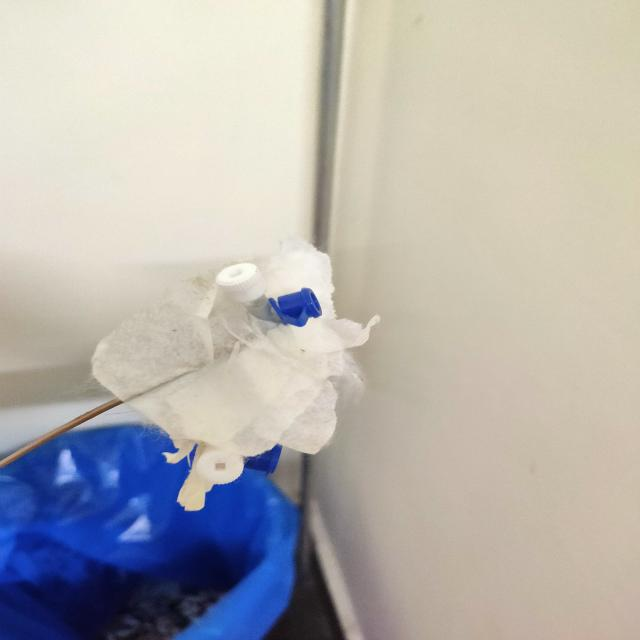B3: (184, 245, 344, 347)
